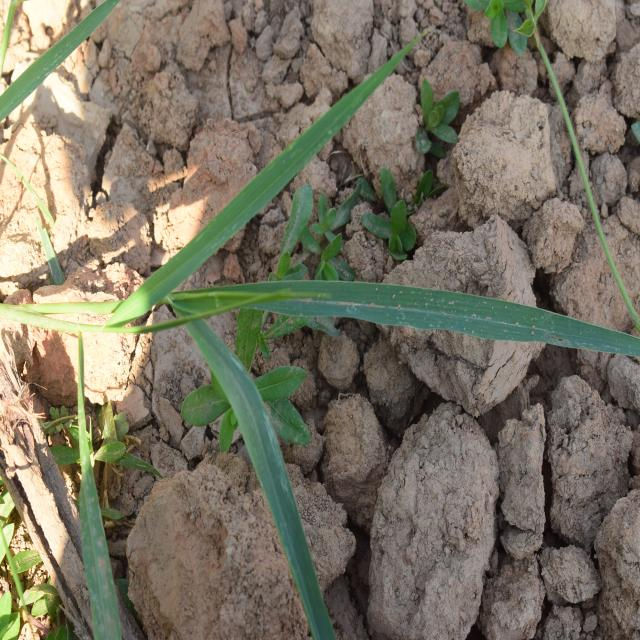green_foxtail: (128, 100, 572, 518)
